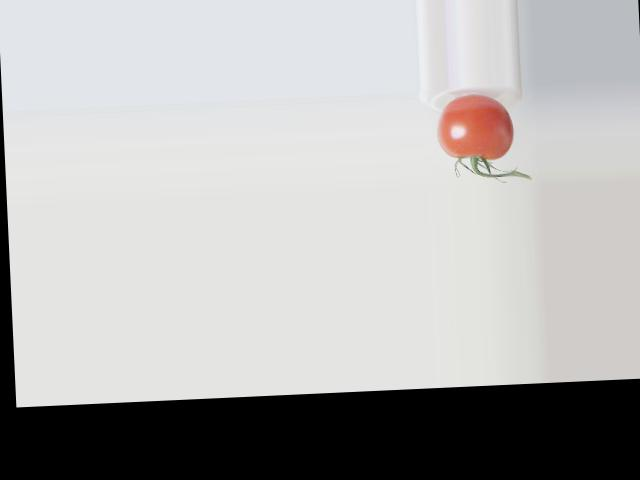tomato: (435, 92, 515, 162)
